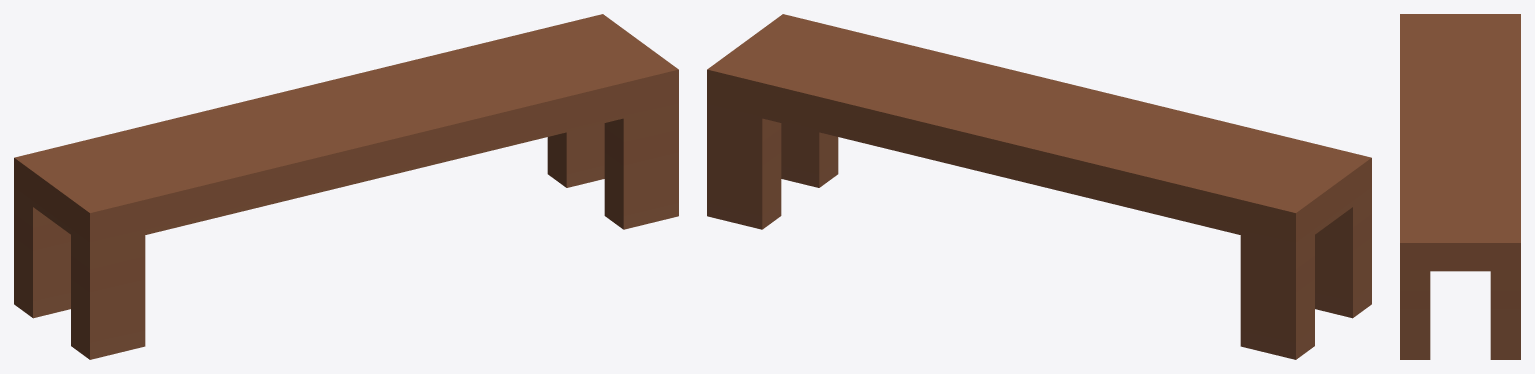
Rendered from bench.glb.
3 renders of one model, left to right at view 1: azimuth 30°, elevation 25°; view 2: azimuth 150°, elevation 25°; view 3: azimuth 270°, elevation 25°, orthographic. The views are drawn at different scales.
Parts seen in each view (by area): view 1: Bench -col; view 2: Bench -col; view 3: Bench -col.
Boxes of the visible parts, left/top/right/bottom form: Bench -col: left=14, top=14, right=678, bottom=359; Bench -col: left=707, top=14, right=1371, bottom=359; Bench -col: left=1400, top=14, right=1520, bottom=359.
Bounding box in the file's own units: 6.45 × 1.54 × 1.44.
1 material, 1 textured.
